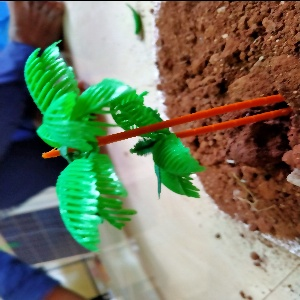plant: (17, 49, 126, 250), (102, 74, 202, 206)
